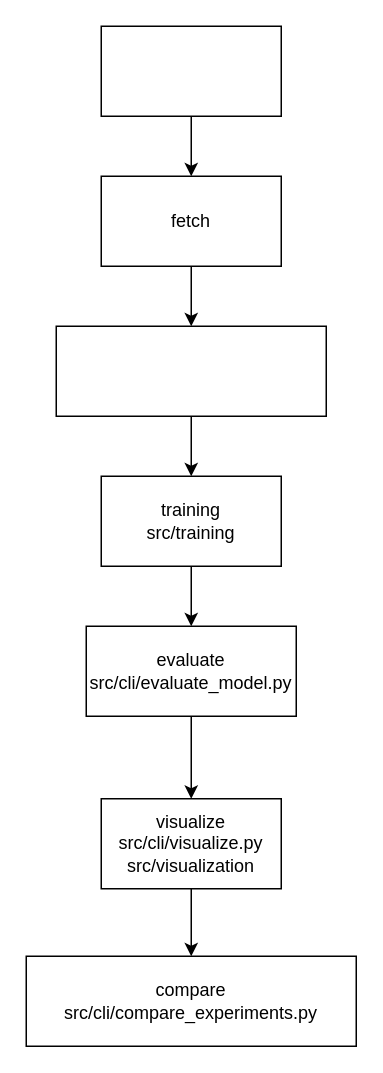
Image size: 383x1073. Some labels were removed from this diagram. The box of each missing label's shape, as (x1, y1, x2, y2) in pixels:
config: (100, 25, 281, 116)
preprocessing data/raw/ => data/processed/: (55, 325, 326, 416)
